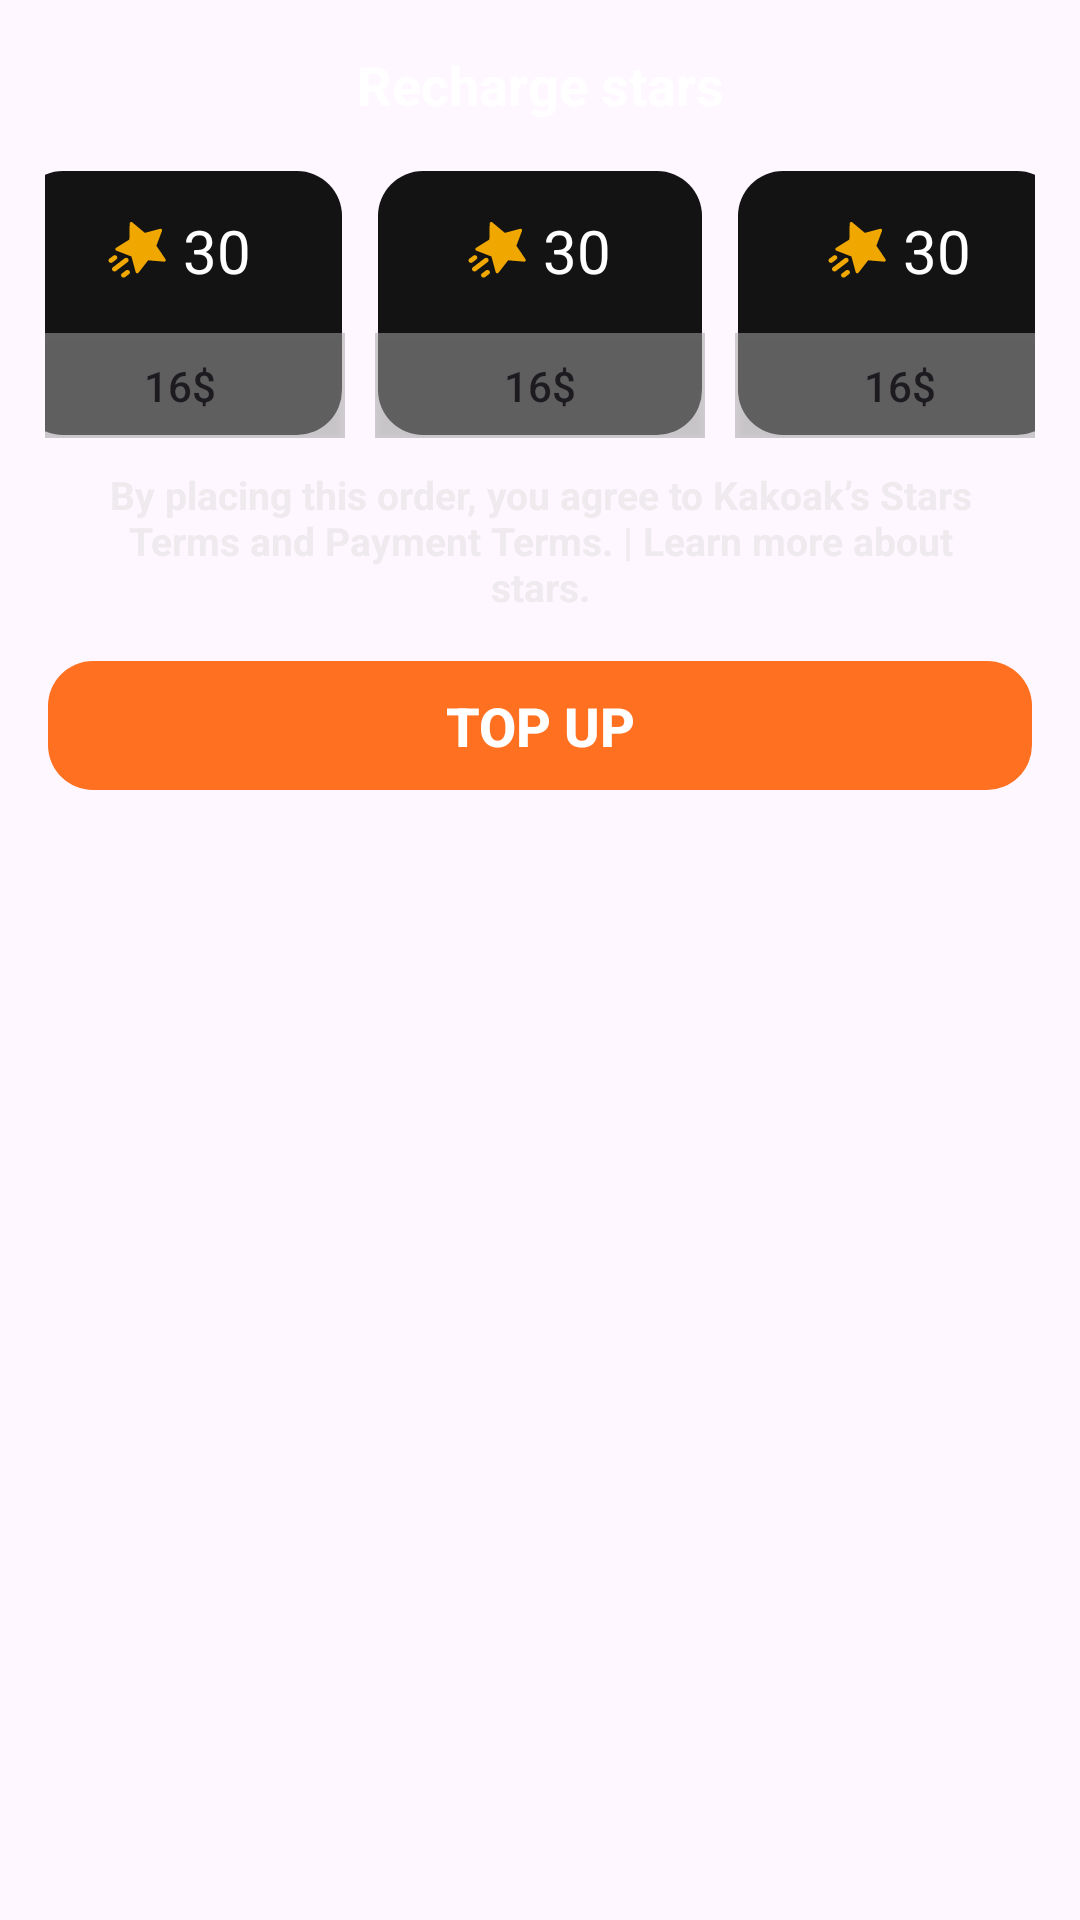

Locate icon controls on the screen. Image size 1080px x 1920px, boxes as (x1, y1, x2, y2).
star coin: (108, 222, 166, 278), (468, 222, 526, 278), (828, 222, 886, 278)
